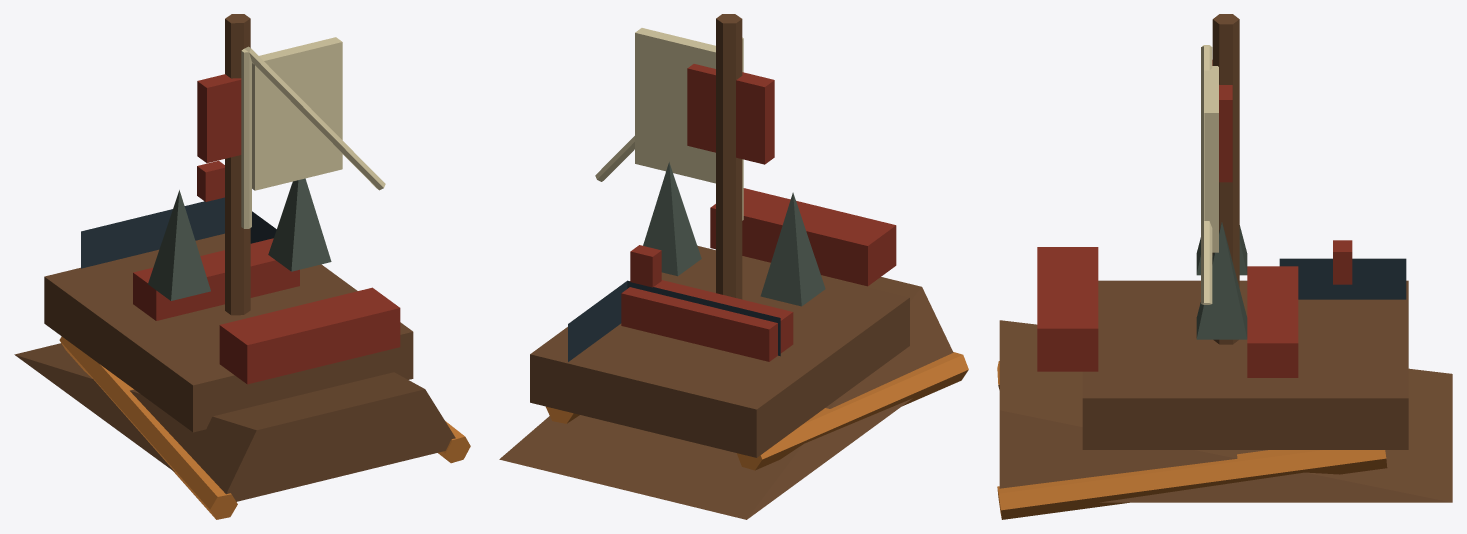
The model's file is raft.obj.
The picture shows the model from 3 angles, left to right: view 1: azimuth 30°, elevation 25°; view 2: azimuth 150°, elevation 25°; view 3: azimuth 270°, elevation 25°; orthographic projection. The views are drawn at different scales.
Parts seen in each view (by area): view 1: ship; view 2: ship; view 3: ship.
Boxes of the visible parts, <box> form: ship: <box>14,14,470,519</box>; ship: <box>499,14,968,519</box>; ship: <box>997,14,1452,519</box>.
Bounding box in the file's own units: 1.6 × 2.26 × 2.15.
